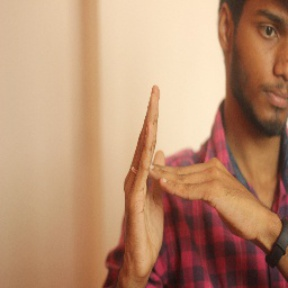Z: (102, 71, 261, 265)
